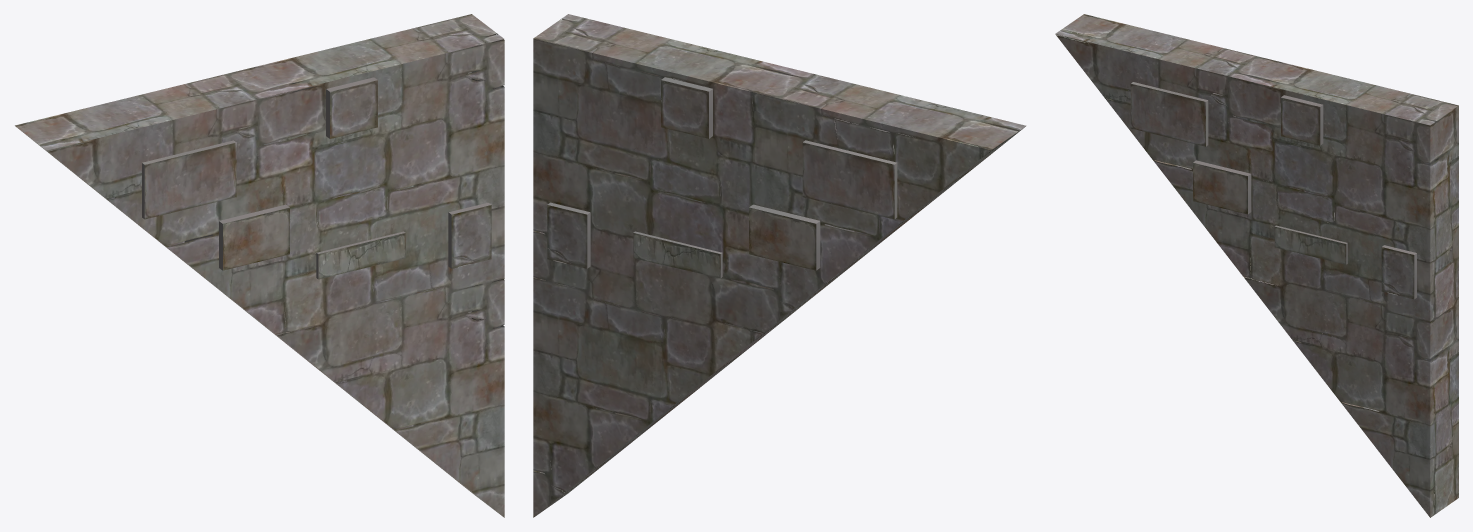
The picture shows the model from 3 angles, left to right: view 1: azimuth 30°, elevation 25°; view 2: azimuth 150°, elevation 25°; view 3: azimuth 330°, elevation 25°; orthographic projection. The views are drawn at different scales.
Parts seen in each view (by area): view 1: SM_BB_T3_Wall_Slanted_Large_Inverted_LOD0; view 2: SM_BB_T3_Wall_Slanted_Large_Inverted_LOD0; view 3: SM_BB_T3_Wall_Slanted_Large_Inverted_LOD0.
Boxes of the visible parts, x1,y1,x2,y2 form: SM_BB_T3_Wall_Slanted_Large_Inverted_LOD0: [15, 14, 504, 517]; SM_BB_T3_Wall_Slanted_Large_Inverted_LOD0: [533, 14, 1026, 517]; SM_BB_T3_Wall_Slanted_Large_Inverted_LOD0: [1055, 14, 1458, 517].
Bounding box in the file's own units: 3.01 × 3 × 0.4755.
Materials: 1 (1 with a texture image).
